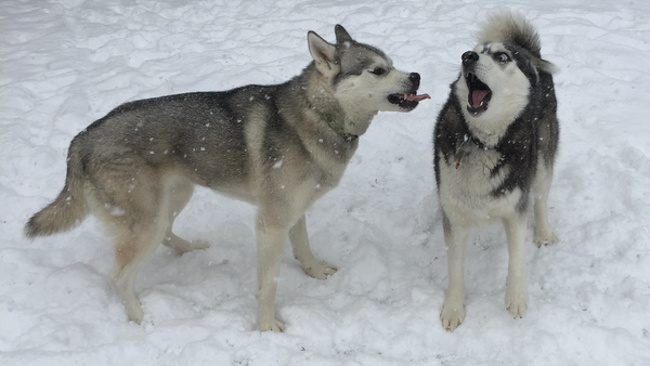husky: (71, 17, 447, 306), (420, 4, 569, 330)
